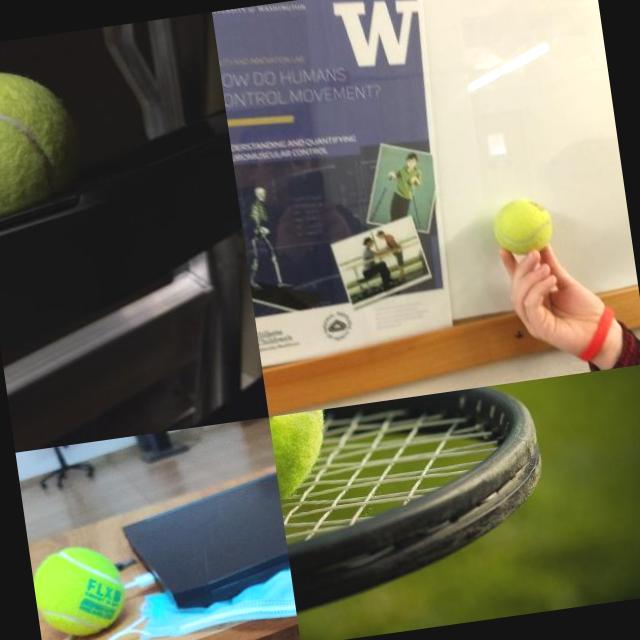Tennis Ball: (0, 61, 91, 203), (29, 540, 129, 640), (488, 194, 556, 259)
